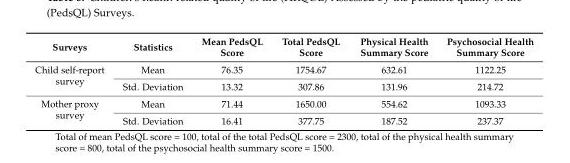table: (34, 35, 533, 126)
table column: (436, 35, 533, 126), (349, 35, 436, 126), (191, 35, 271, 126), (112, 35, 191, 126), (34, 35, 112, 126), (271, 35, 349, 126)
table column header: (34, 35, 533, 60)
table row: (34, 35, 533, 60), (34, 60, 533, 77), (34, 77, 533, 94), (34, 94, 533, 111), (34, 111, 533, 126)
table spanning cell: (34, 60, 112, 94), (34, 94, 112, 126)
